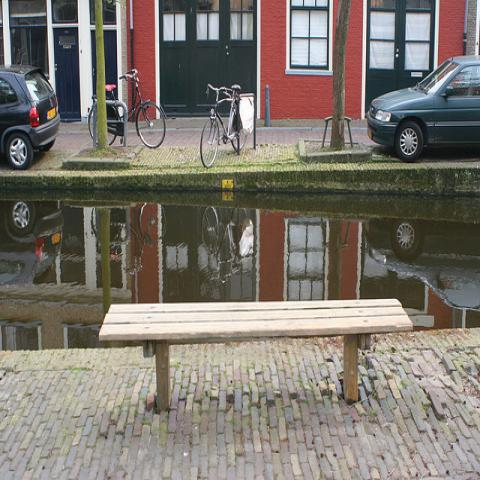car: (365, 54, 479, 164), (0, 65, 62, 169)
